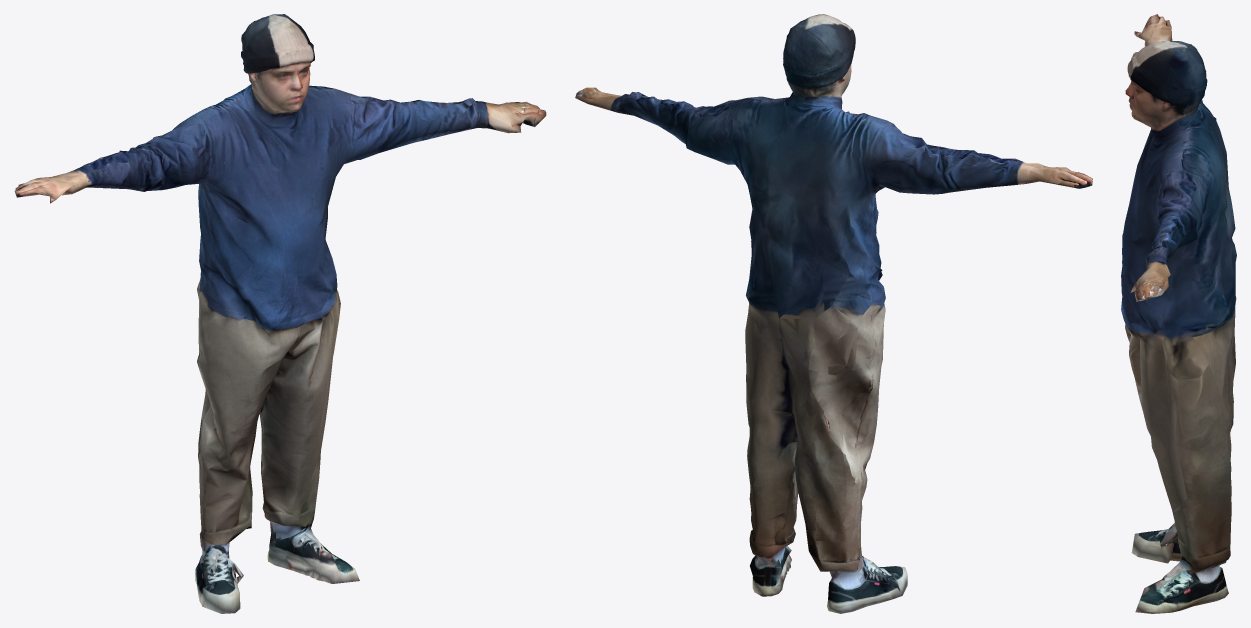
Rendered from NNN.glb.
The picture shows the model from 3 angles, left to right: view 1: azimuth 30°, elevation 25°; view 2: azimuth 150°, elevation 25°; view 3: azimuth 270°, elevation 25°; orthographic projection. The views are drawn at different scales.
Parts seen in each view (by area): view 1: Nathan_Tpose_poly; view 2: Nathan_Tpose_poly; view 3: Nathan_Tpose_poly.
Part boxes in pixels (<box>): Nathan_Tpose_poly: <box>14,14,546,613</box>; Nathan_Tpose_poly: <box>575,14,1092,613</box>; Nathan_Tpose_poly: <box>1121,14,1236,613</box>.
Size of the model in its own units: 1.65 by 1.7 by 0.331.
1 material, 1 textured.
